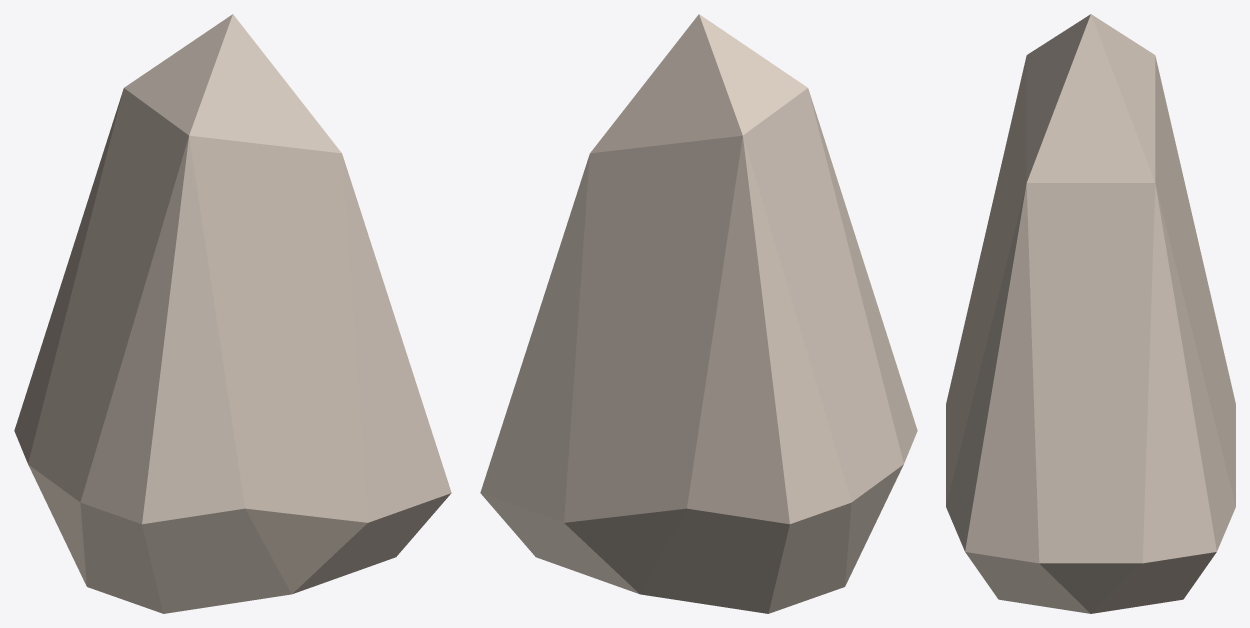
Rendered from stone_03.obj.
The picture shows the model from 3 angles, left to right: view 1: azimuth 30°, elevation 25°; view 2: azimuth 150°, elevation 25°; view 3: azimuth 270°, elevation 25°; orthographic projection.
Parts seen in each view (by area): view 1: Stone_03; view 2: Stone_03; view 3: Stone_03.
Part boxes in pixels (x1,y1,x2,y2): Stone_03: (14, 14, 451, 613); Stone_03: (480, 14, 917, 613); Stone_03: (946, 14, 1235, 613).
Bounding box in the file's own units: 5.05 × 7.25 × 3.6.
